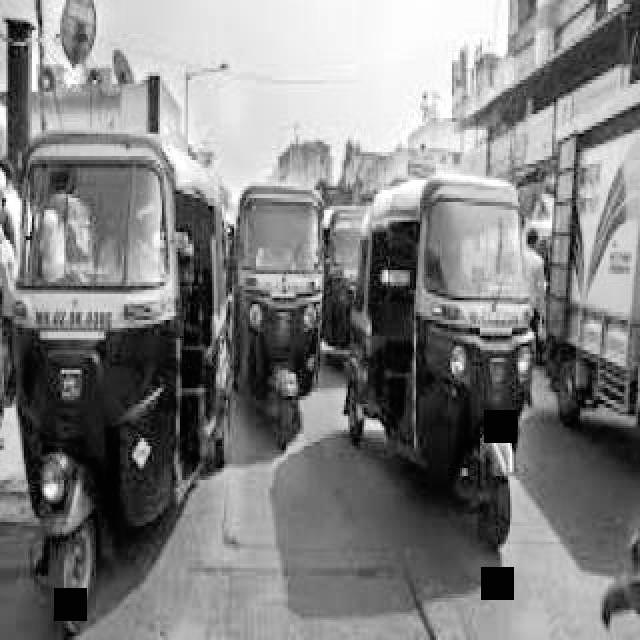Auto-Rickshaw: (12, 108, 254, 640), (338, 180, 554, 550), (234, 154, 344, 460)
